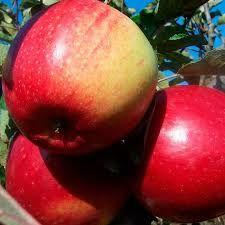Apple: (1, 2, 157, 153)
